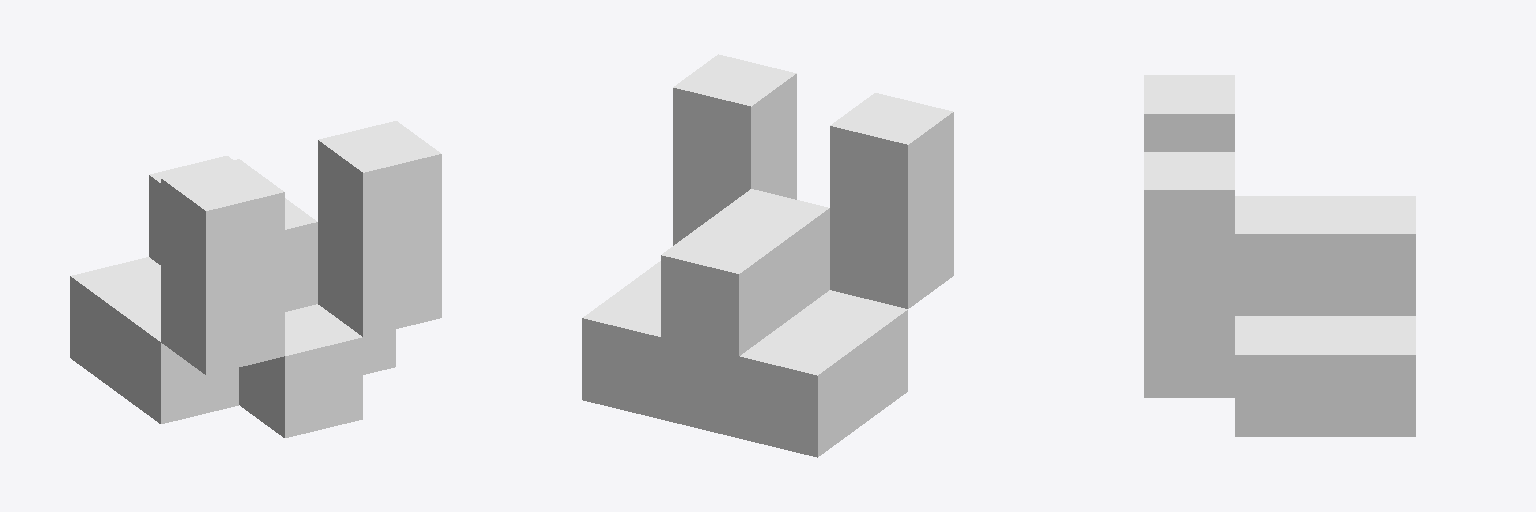
File: bugProjectile.obj
3 renders of one model, left to right at view 1: azimuth 30°, elevation 25°; view 2: azimuth 150°, elevation 25°; view 3: azimuth 270°, elevation 25°, orthographic.
Parts seen in each view (by area): view 1: object 1; view 2: object 1; view 3: object 1.
Boxes of the visible parts, x1,y1,x2,y2 form: object 1: [70, 121, 441, 437]; object 1: [582, 54, 953, 457]; object 1: [1144, 75, 1415, 436].
Bounding box in the file's own units: 0.3 × 0.3 × 0.3.